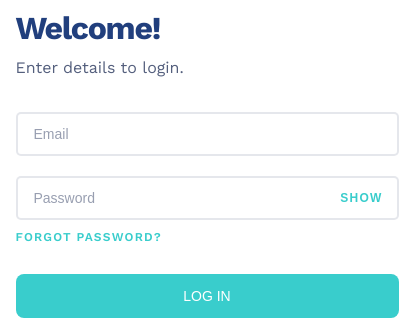
LoginPage › has a SHOW/HIDE password toggle
Click the button "SHOW" at {"x": 361, "y": 198}, box [340,192,382,204]
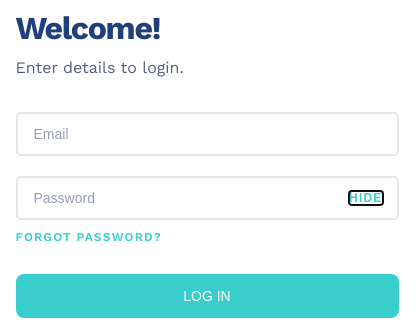
Expected: the button "HIDE" is shown
Click the button "HIDE" at {"x": 366, "y": 198}, box [349,192,382,204]
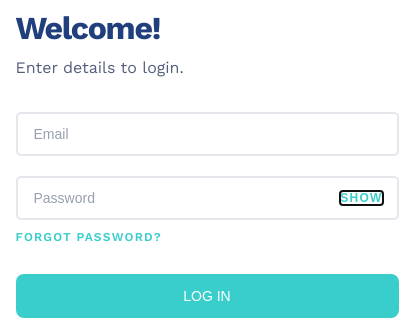
Expected: the button "SHOW" is shown, [340,192,382,204]
